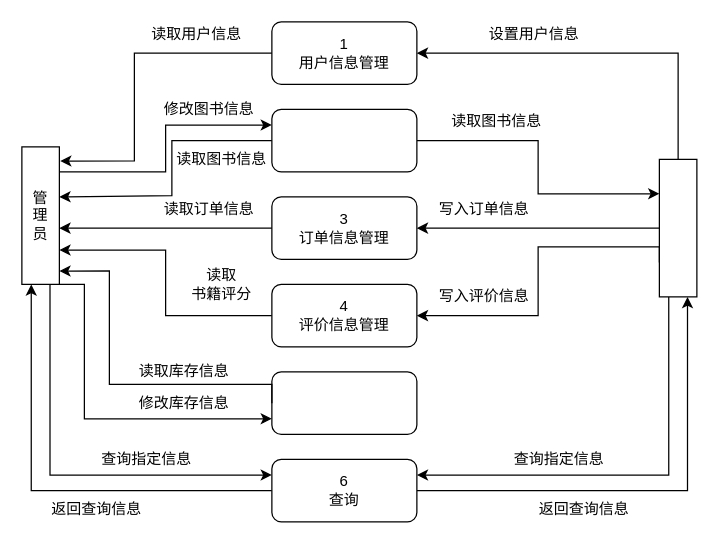
Image size: 720x544. Some labels were removed from this diagram. Here are the shapes that lost their labels. From the top down, the box of each, then its label:
(271, 108, 417, 172): 2 图书信息管理
(658, 158, 697, 297): 用 户
(271, 371, 417, 434): 5 库存管理
